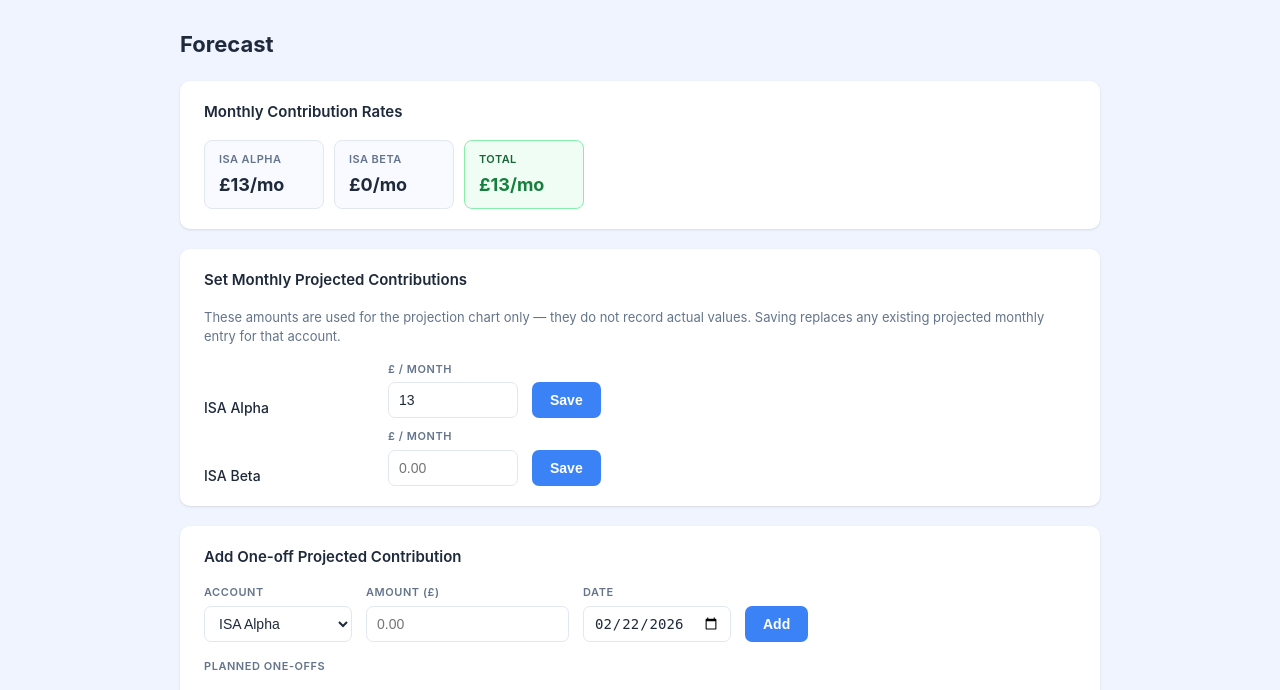
Forecast page › shows a success notice after adding a one-off
This screenshot has width=1280, height=690.
Expected: the heading "Add One-off Projected Contribution" is shown, x1=204 y1=546 x2=462 y2=566
Type "500" into the number field labelled "Amount (£)" at (468, 624), box x1=366 y1=606 x2=569 y2=642
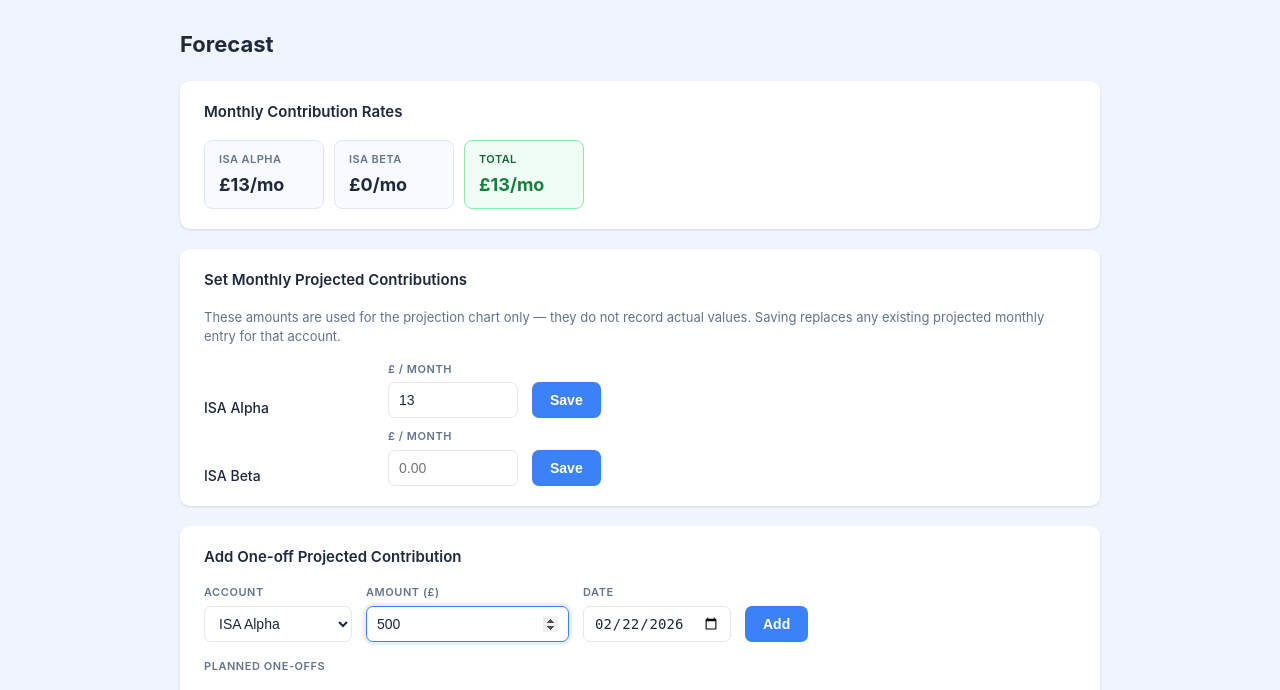
Click the button "Add" at (777, 624), box x1=745 y1=606 x2=808 y2=642
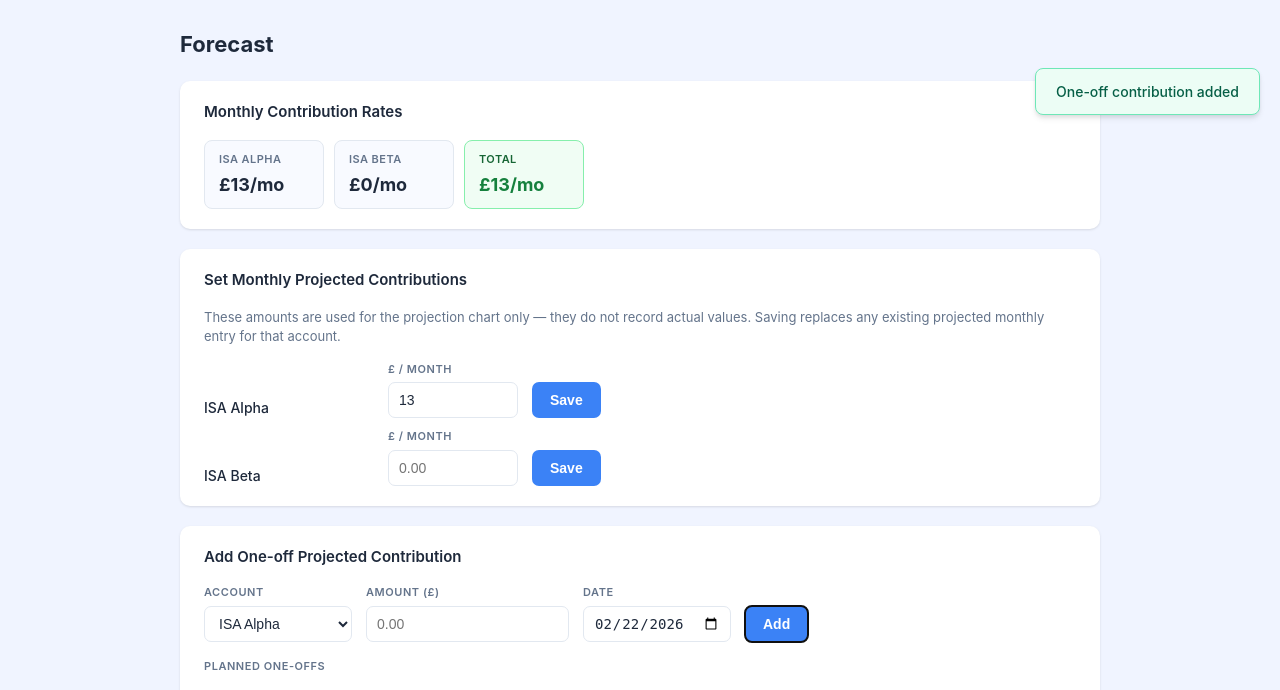
Expected: the text "One-off contribution added" is shown, x1=1035 y1=68 x2=1260 y2=115
